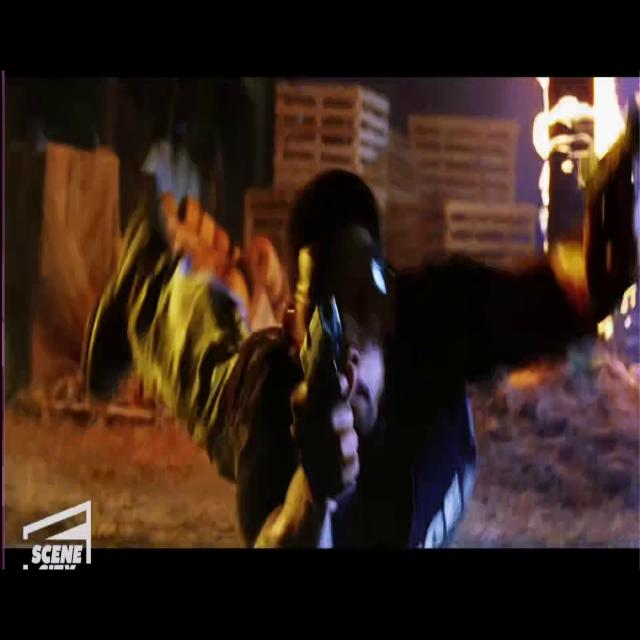weapons: (290, 279, 368, 477)
